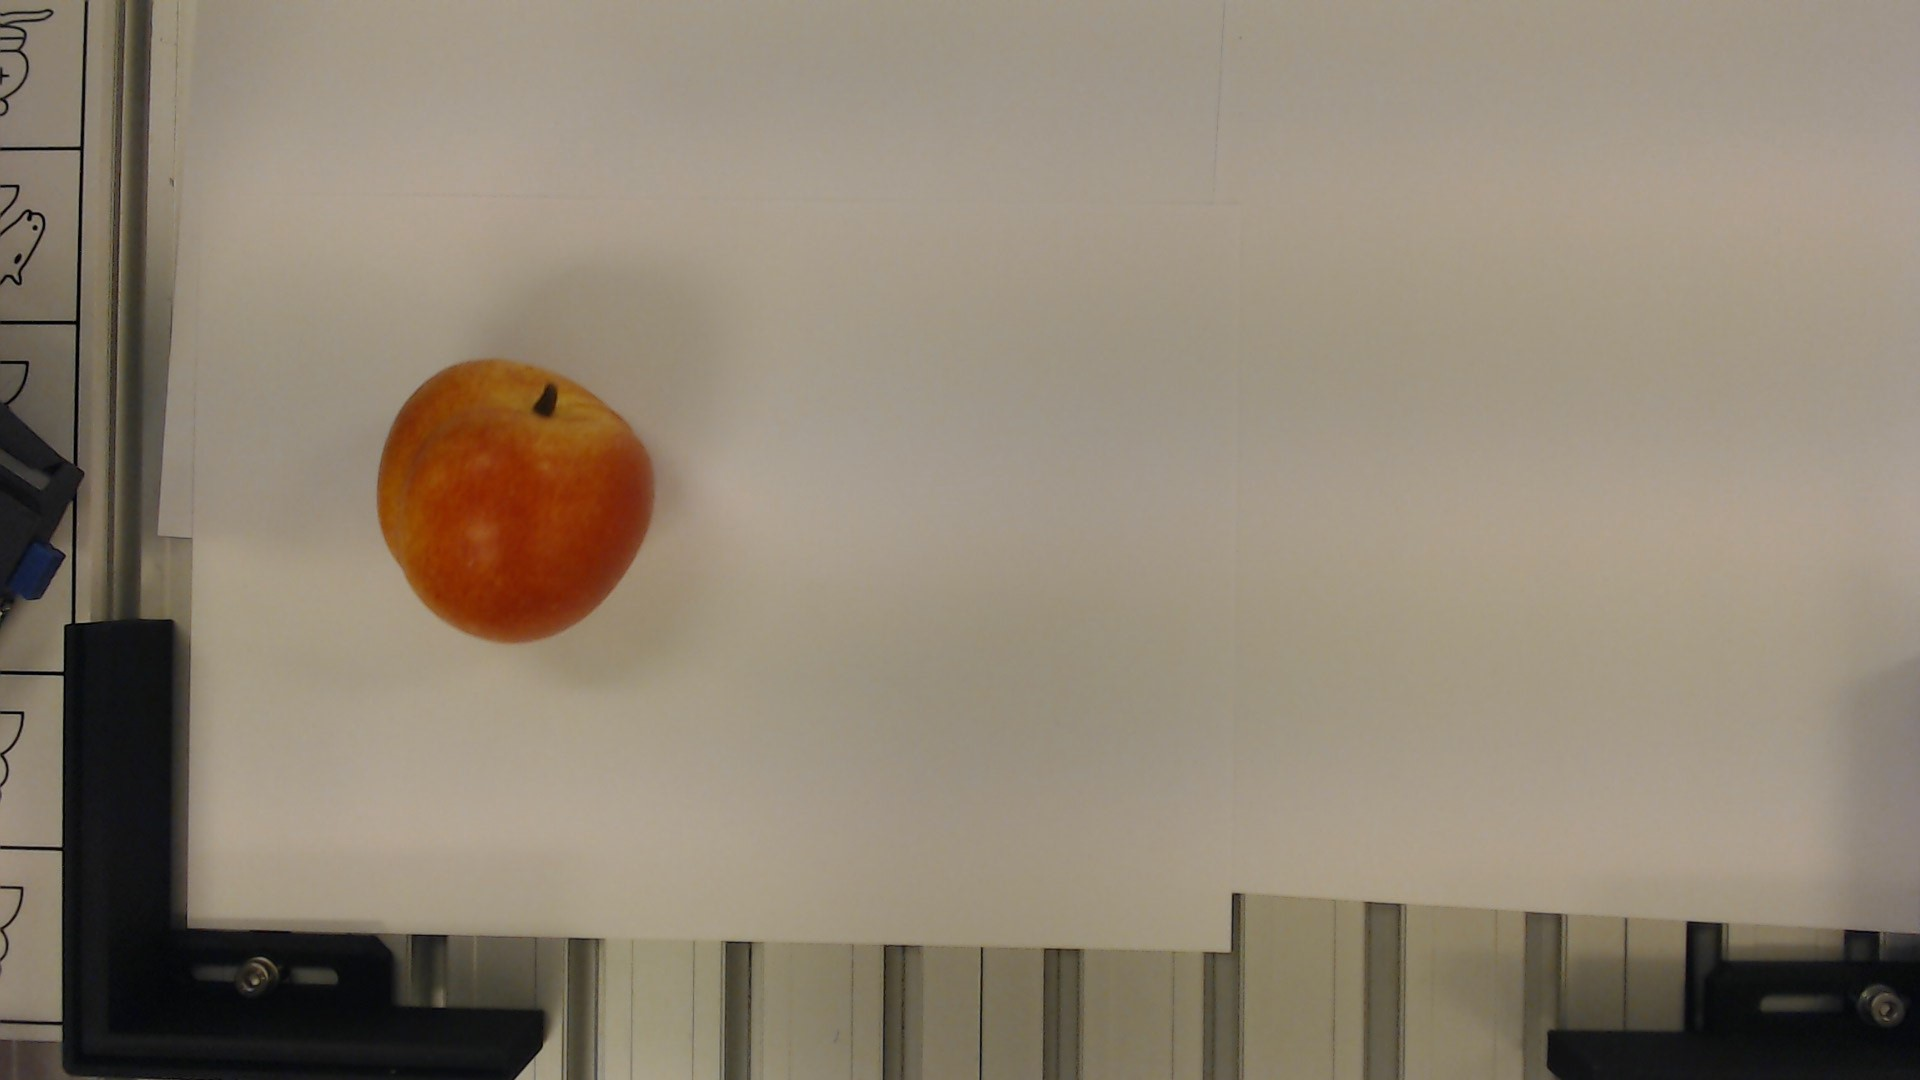Peach: (372, 353, 661, 650)
